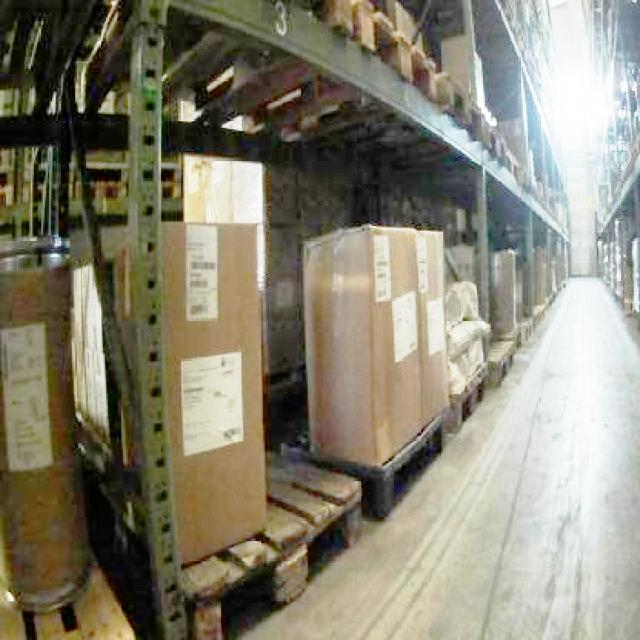ground: (0, 274, 638, 638)
pallet: (65, 0, 571, 638), (68, 217, 362, 638), (300, 222, 449, 468), (177, 455, 362, 638), (589, 0, 638, 638)
